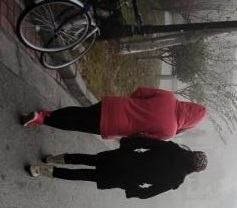person: (27, 135, 207, 200), (22, 84, 206, 143)
